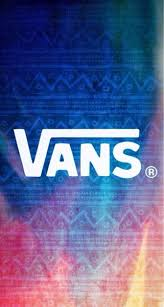vans: (13, 128, 142, 179)
